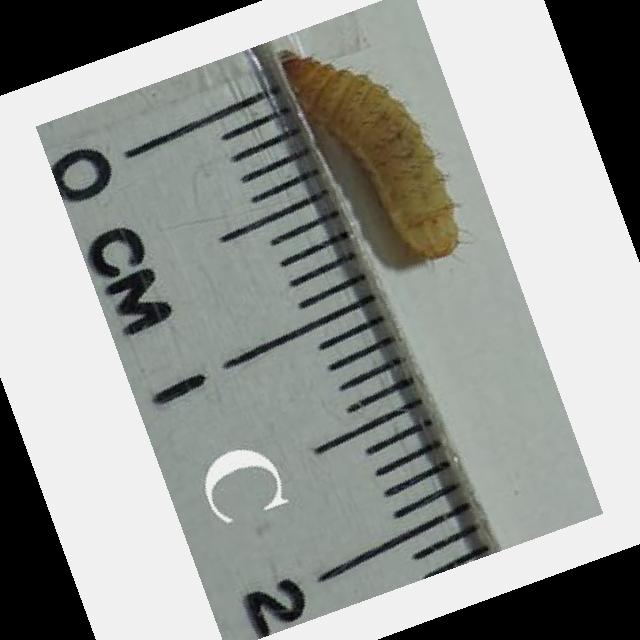Maggot: (280, 47, 465, 262)
